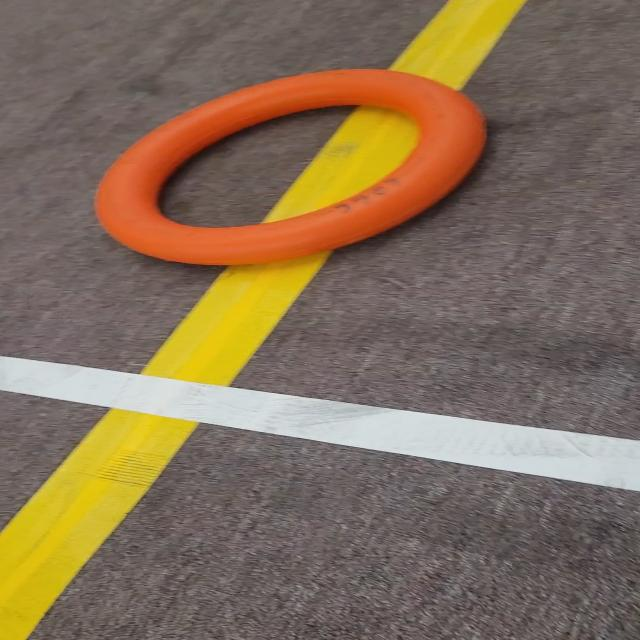note: (79, 56, 508, 278)
